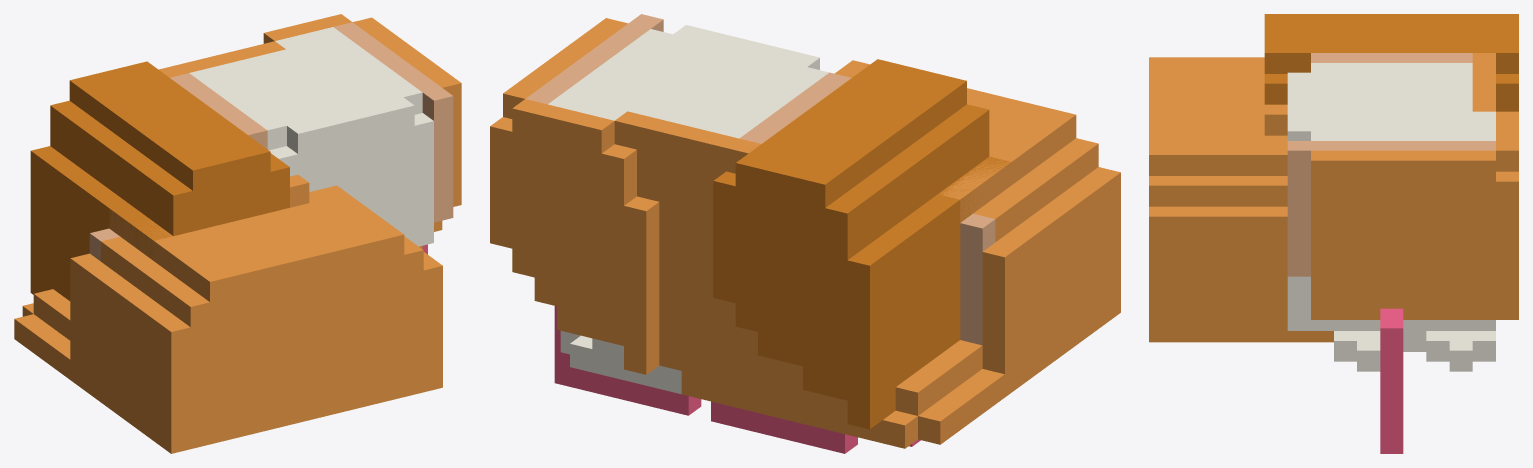
Rendered from owl.glb.
3 views of the same model, side by side, from view 1: azimuth 30°, elevation 25°; view 2: azimuth 150°, elevation 25°; view 3: azimuth 270°, elevation 25° (orthographic). The views are drawn at different scales.
Visible parts, largest first — view 1: base, head; view 2: base, head, layer-1; view 3: base, head, layer-1.
Boxes of the visible parts, bbox=[...] form: base: bbox=[14, 14, 461, 379]; head: bbox=[70, 185, 442, 453]; base: bbox=[490, 14, 1010, 448]; head: bbox=[835, 60, 1120, 397]; layer-1: bbox=[554, 306, 920, 453]; base: bbox=[1264, 14, 1518, 371]; head: bbox=[1149, 57, 1333, 342]; layer-1: bbox=[1380, 308, 1403, 453].
Size of the model in its own units: 19 by 14 by 16.
13 materials, 13 textured.
